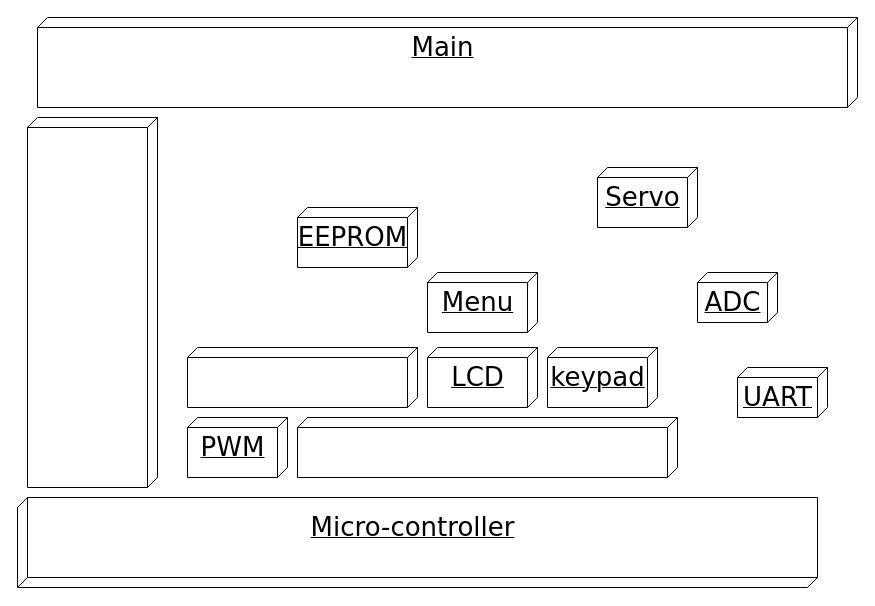
This 875x606 diagram has some shape labels left out. Each missing label, with the box of its shape:
DC_Motor: (186, 346, 418, 408)
DIO: (296, 416, 678, 478)
Register: (26, 116, 158, 488)
